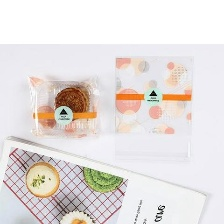snack: (107, 49, 199, 168), (20, 70, 107, 144)
